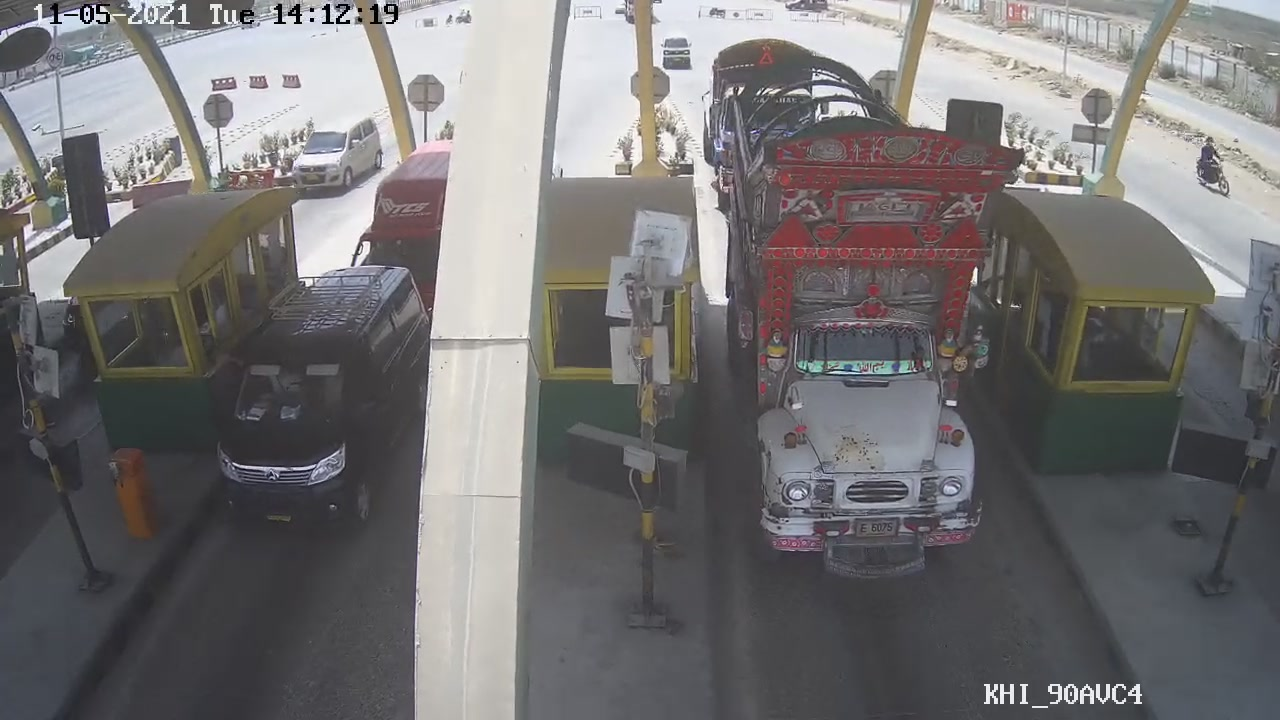F5: (707, 59, 1032, 593)
